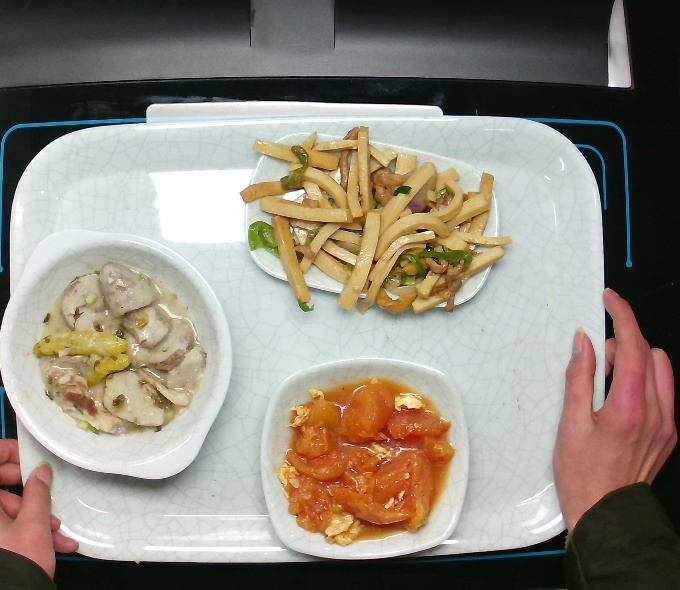wcq-FanQieChaoDan: (270, 372, 460, 549)
wcq-QianYeDouFu: (236, 122, 517, 320)
wcq-YangYu: (15, 254, 215, 441)
